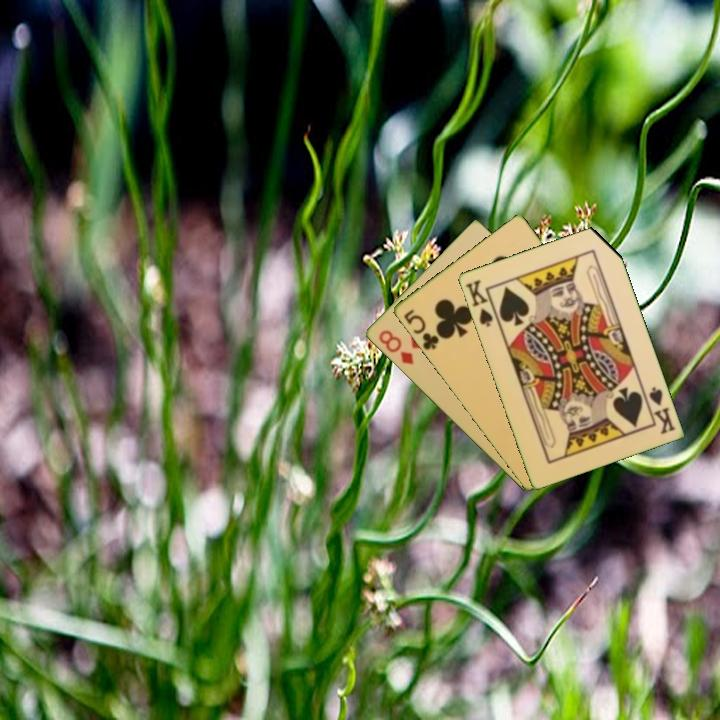5c: (400, 306, 443, 353)
8d: (375, 326, 416, 368)
Ks: (461, 276, 501, 329), (640, 383, 678, 437)
